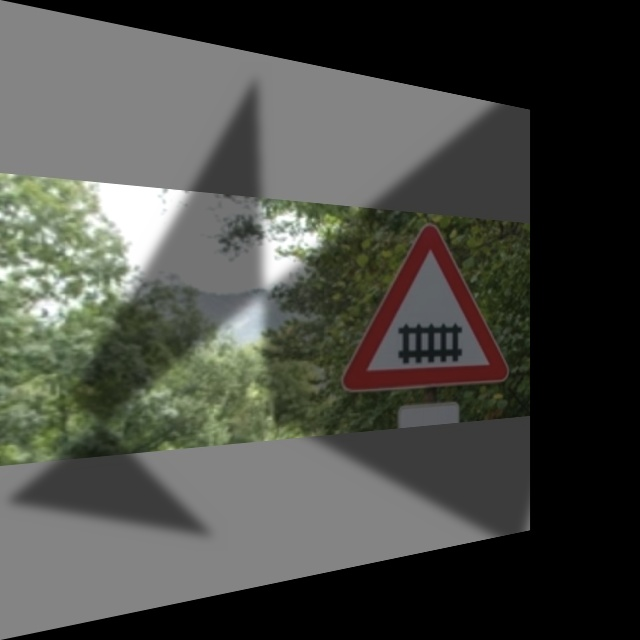Guarded_Level_Crossing: (347, 218, 510, 394)
